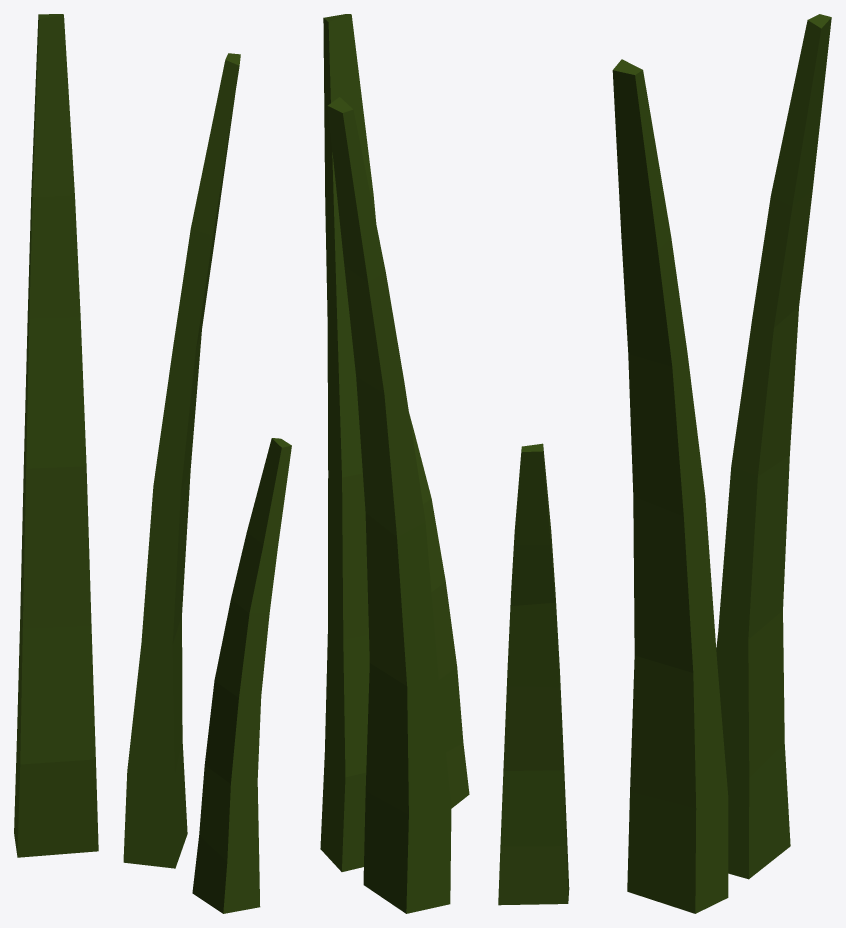
File: grass006_grass1_0_lev1.glb
3 views of the same model, side by side, from view 1: azimuth 30°, elevation 25°; view 2: azimuth 150°, elevation 25°; view 3: azimuth 270°, elevation 25° (orthographic). The views are drawn at different scales.
Visible parts, largest first — view 1: grass006_grass1_0_lev1; view 2: grass006_grass1_0_lev1; view 3: grass006_grass1_0_lev1.
Part boxes in pixels (bbox=[...]): grass006_grass1_0_lev1: bbox=[14, 14, 291, 913]; grass006_grass1_0_lev1: bbox=[320, 14, 469, 913]; grass006_grass1_0_lev1: bbox=[498, 14, 831, 913].
Size of the model in its own units: 0.0599 by 0.2633 by 0.0926.
